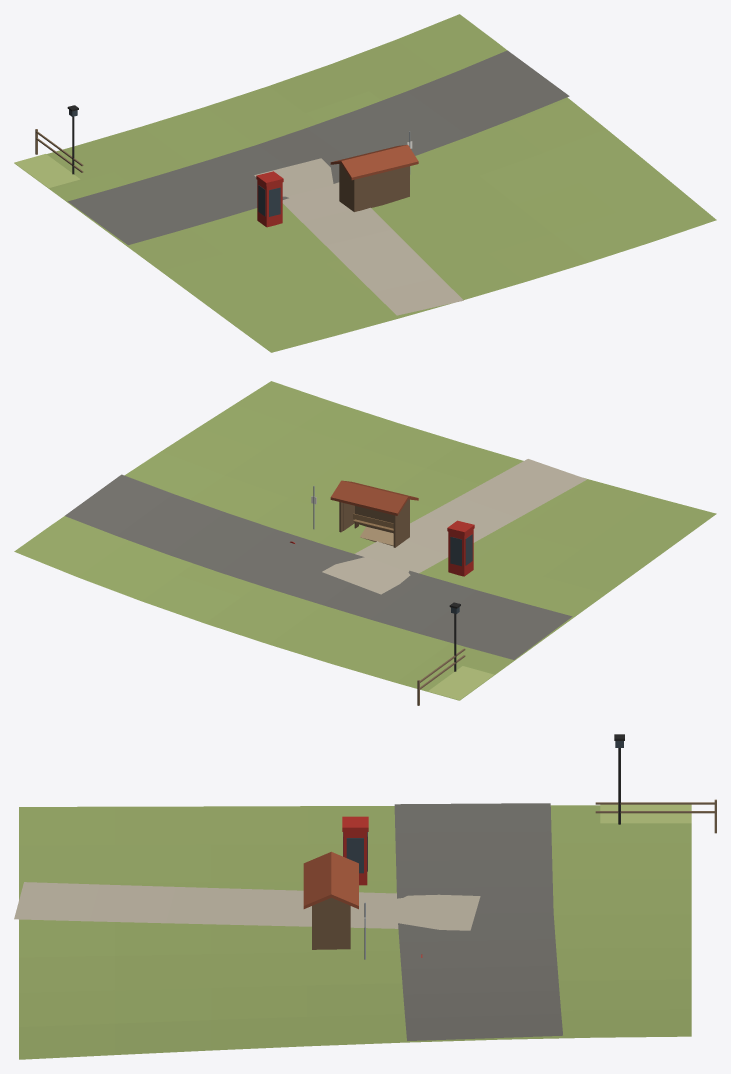
The model's file is bus_stop.glb.
The picture shows the model from 3 angles, top to bottom: view 1: azimuth 30°, elevation 25°; view 2: azimuth 150°, elevation 25°; view 3: azimuth 270°, elevation 25°; orthographic projection. The views are drawn at different scales.
Visible parts, largest first — view 1: ground, ground_lanes, bus_shelter_shell, cut_roof_bus_shelter, prop_phonebox, ground_areas; view 2: ground, ground_lanes, cut_roof_bus_shelter, bus_shelter_shell, prop_phonebox, ground_areas; view 3: ground, ground_lanes, cut_roof_bus_shelter, bus_shelter_shell, ground_areas, prop_phonebox, boundaries.
Boxes of the visible parts, left/top/right/bottom form: ground: left=14, top=14, right=716, bottom=352; ground_lanes: left=67, top=50, right=569, bottom=315; bus_shelter_shell: left=339, top=163, right=409, bottom=211; cut_roof_bus_shelter: left=330, top=145, right=418, bottom=180; prop_phonebox: left=256, top=171, right=283, bottom=227; ground_areas: left=14, top=154, right=80, bottom=187; ground: left=14, top=381, right=716, bottom=700; ground_lanes: left=65, top=459, right=586, bottom=659; cut_roof_bus_shelter: left=330, top=480, right=418, bottom=515; bus_shelter_shell: left=339, top=499, right=409, bottom=547; prop_phonebox: left=447, top=520, right=474, bottom=576; ground_areas: left=428, top=666, right=493, bottom=699; ground: left=19, top=805, right=691, bottom=1059; ground_lanes: left=14, top=803, right=562, bottom=1040; cut_roof_bus_shelter: left=303, top=851, right=358, bottom=909; bus_shelter_shell: left=312, top=897, right=350, bottom=949; ground_areas: left=600, top=804, right=691, bottom=823; prop_phonebox: left=342, top=816, right=368, bottom=885; boundaries: left=595, top=799, right=716, bottom=833.
Bounding box in the file's own units: 28.11 × 4.43 × 29.26.
